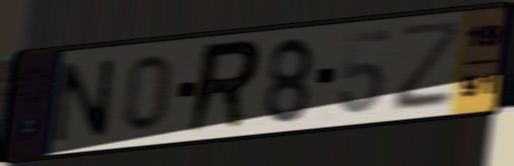0: (118, 51, 178, 137)
5: (335, 26, 393, 116)
8: (263, 34, 315, 126)
N: (52, 56, 117, 146)
R: (183, 36, 265, 138)
Z: (392, 17, 465, 116)
